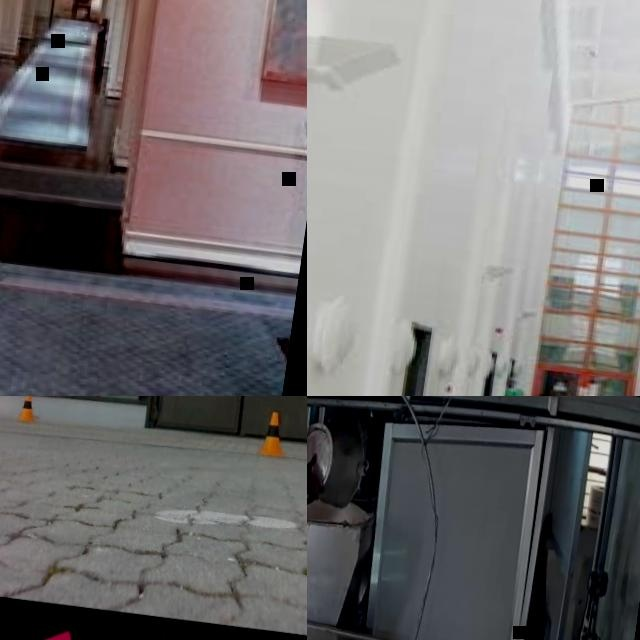Safety Cone: (257, 412, 291, 460), (16, 396, 39, 423)
